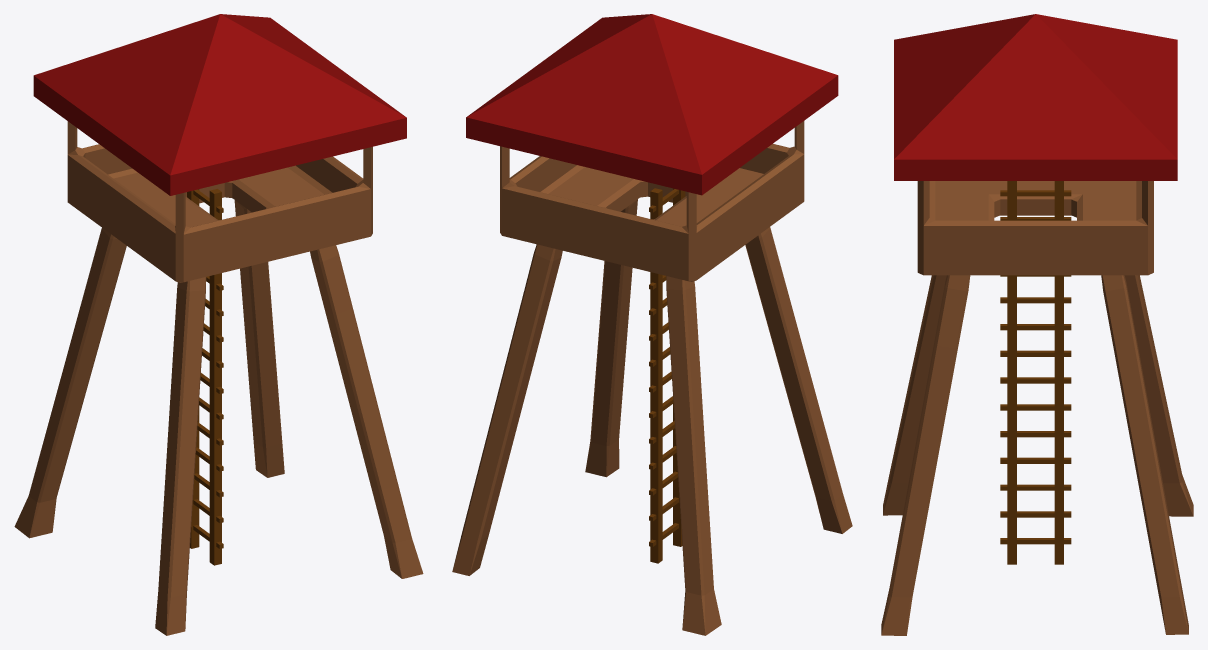
The model's file is Tower.fbx.
3 views of the same model, side by side, from view 1: azimuth 30°, elevation 25°; view 2: azimuth 150°, elevation 25°; view 3: azimuth 270°, elevation 25° (orthographic). The views are drawn at different scales.
Visible parts, largest first — view 1: Tower; view 2: Tower; view 3: Tower.
Part boxes in pixels (box(x1,y1,x2,y2)): Tower: box(14, 14, 423, 635); Tower: box(452, 14, 852, 635); Tower: box(881, 14, 1193, 635).
Size of the model in its own units: 658 by 1300 by 661.
